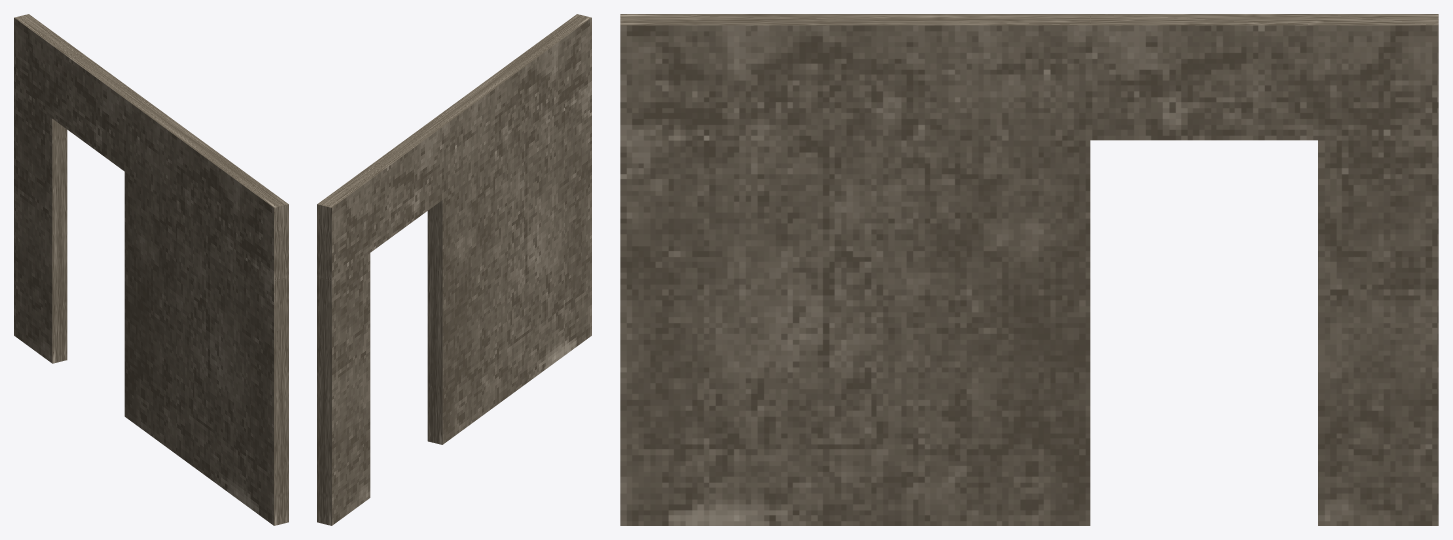
Rendered from drzwi.fbx.
3 renders of one model, left to right at view 1: azimuth 30°, elevation 25°; view 2: azimuth 150°, elevation 25°; view 3: azimuth 270°, elevation 25°, orthographic. The views are drawn at different scales.
Visible parts, largest first — view 1: Cube.012; view 2: Cube.012; view 3: Cube.012.
Boxes of the visible parts, x1,y1,x2,y2 form: Cube.012: [14, 14, 288, 525]; Cube.012: [317, 14, 591, 525]; Cube.012: [620, 14, 1438, 525].
Bounding box in the file's own units: 14.13 × 291 × 431.
Materials: 1 (1 with a texture image).
